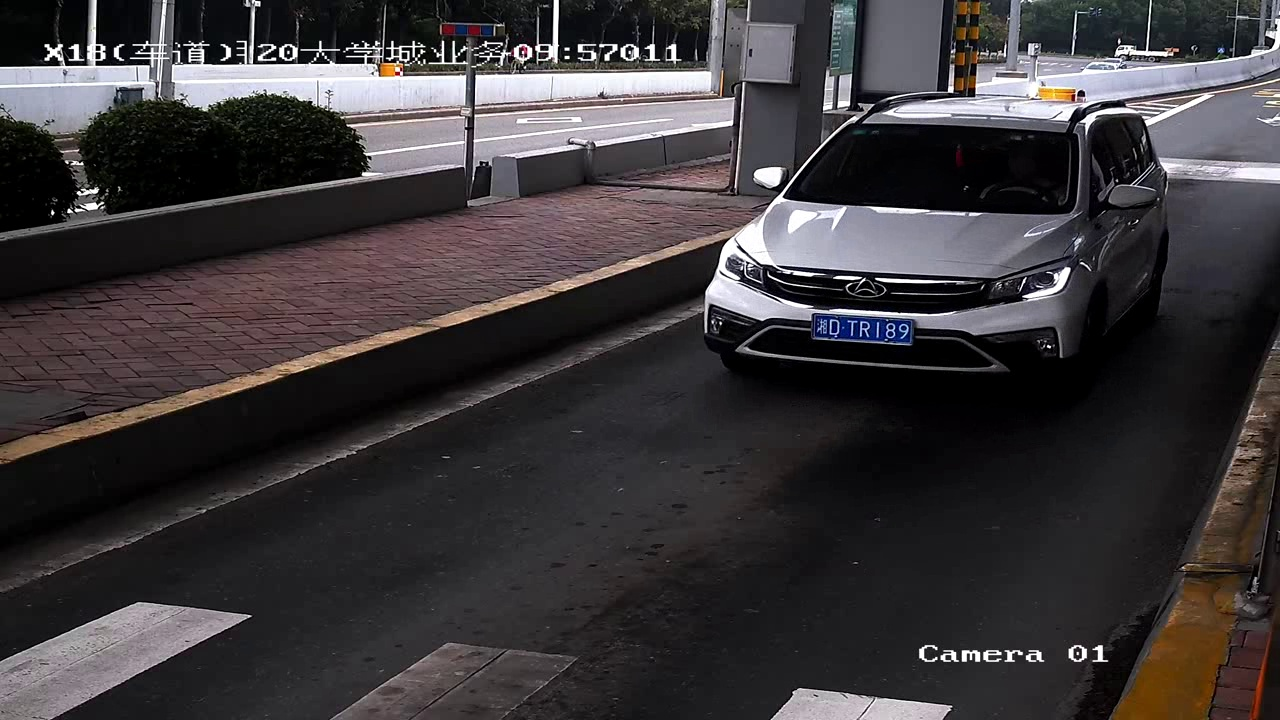bluePlate: (808, 309, 918, 348)
car: (671, 78, 1183, 403)
